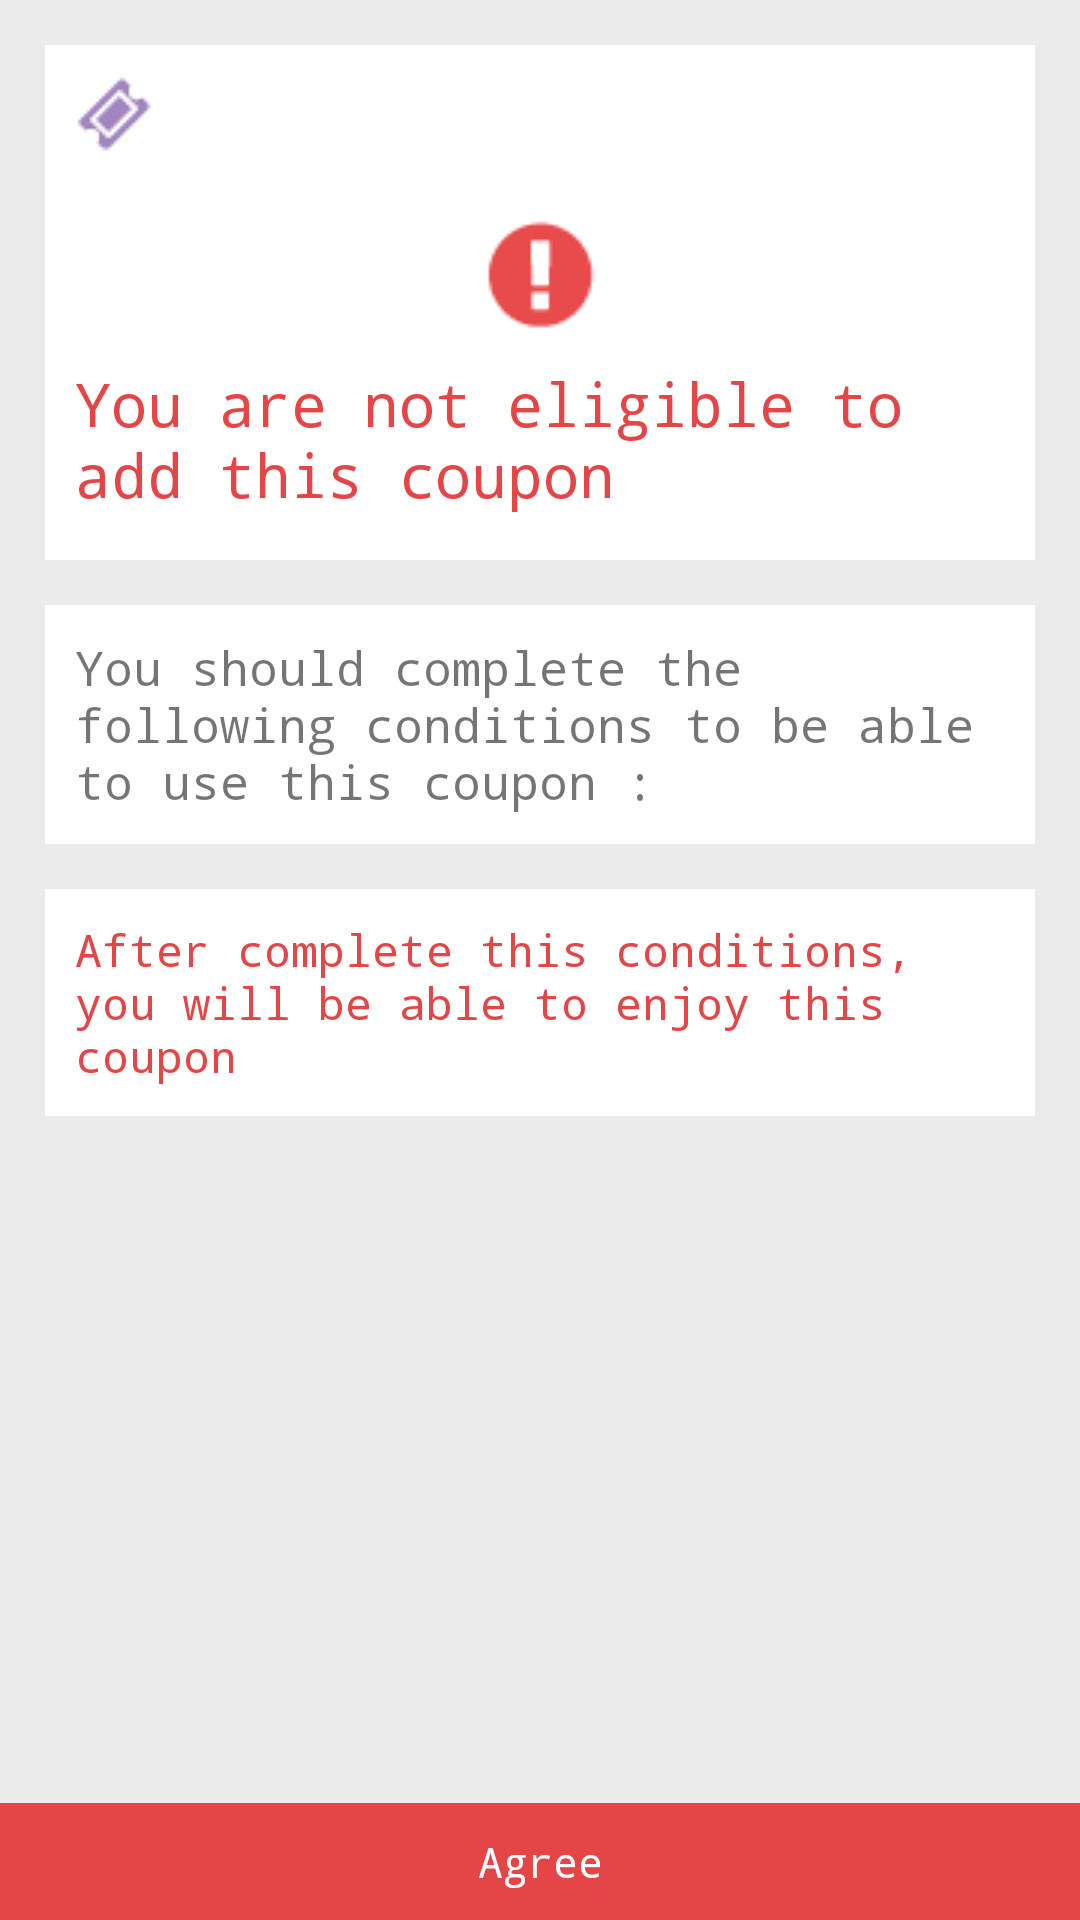

Named icons in this screenshot (1080 × 1920) and their centers, (x,y):
warning sign: (541,274)
